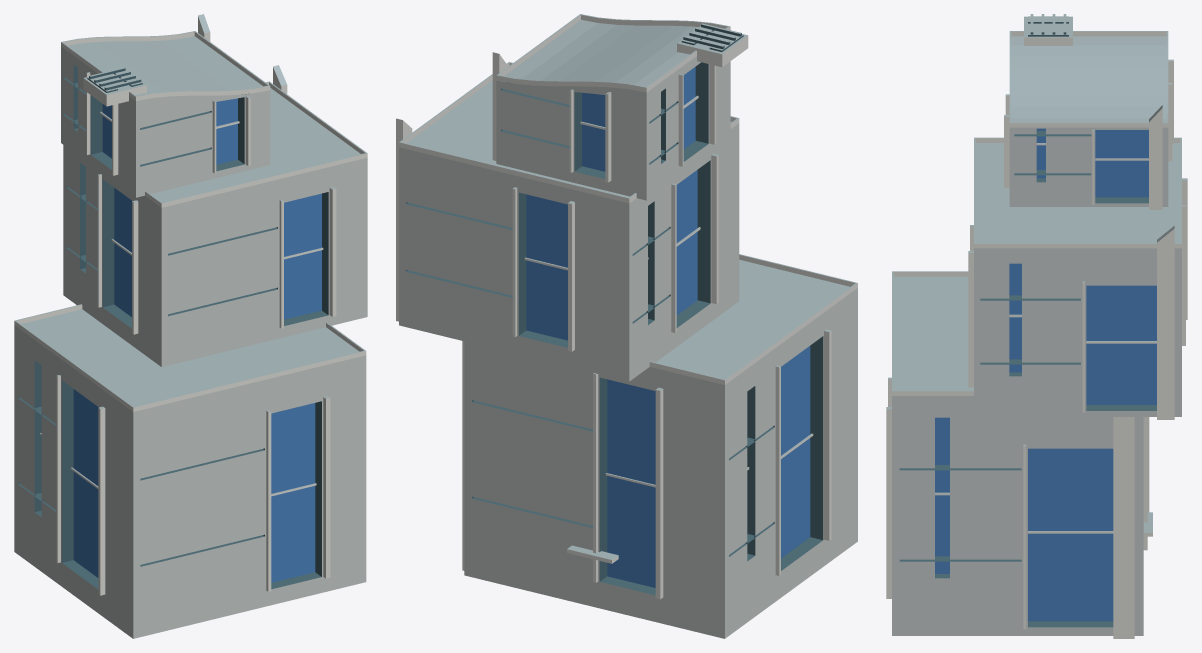
File: 11_Versatzhaus.obj
3 views of the same model, side by side, from view 1: azimuth 30°, elevation 25°; view 2: azimuth 150°, elevation 25°; view 3: azimuth 270°, elevation 25° (orthographic). The views are drawn at different scales.
Bounding box in the file's own units: 0.6023 × 1 × 0.5235.
